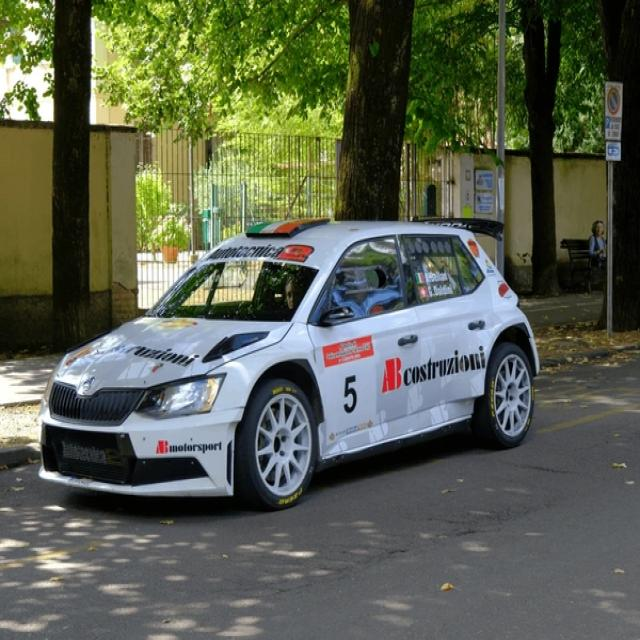skoda: (78, 370, 98, 394)
